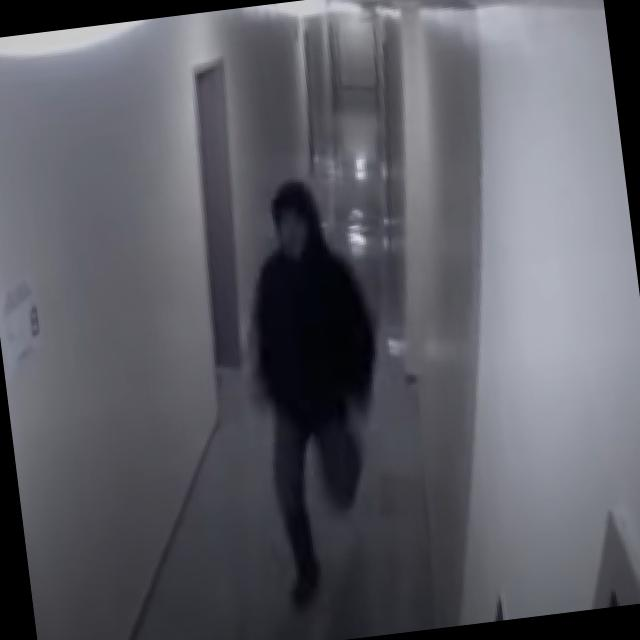person: (228, 170, 405, 597)
